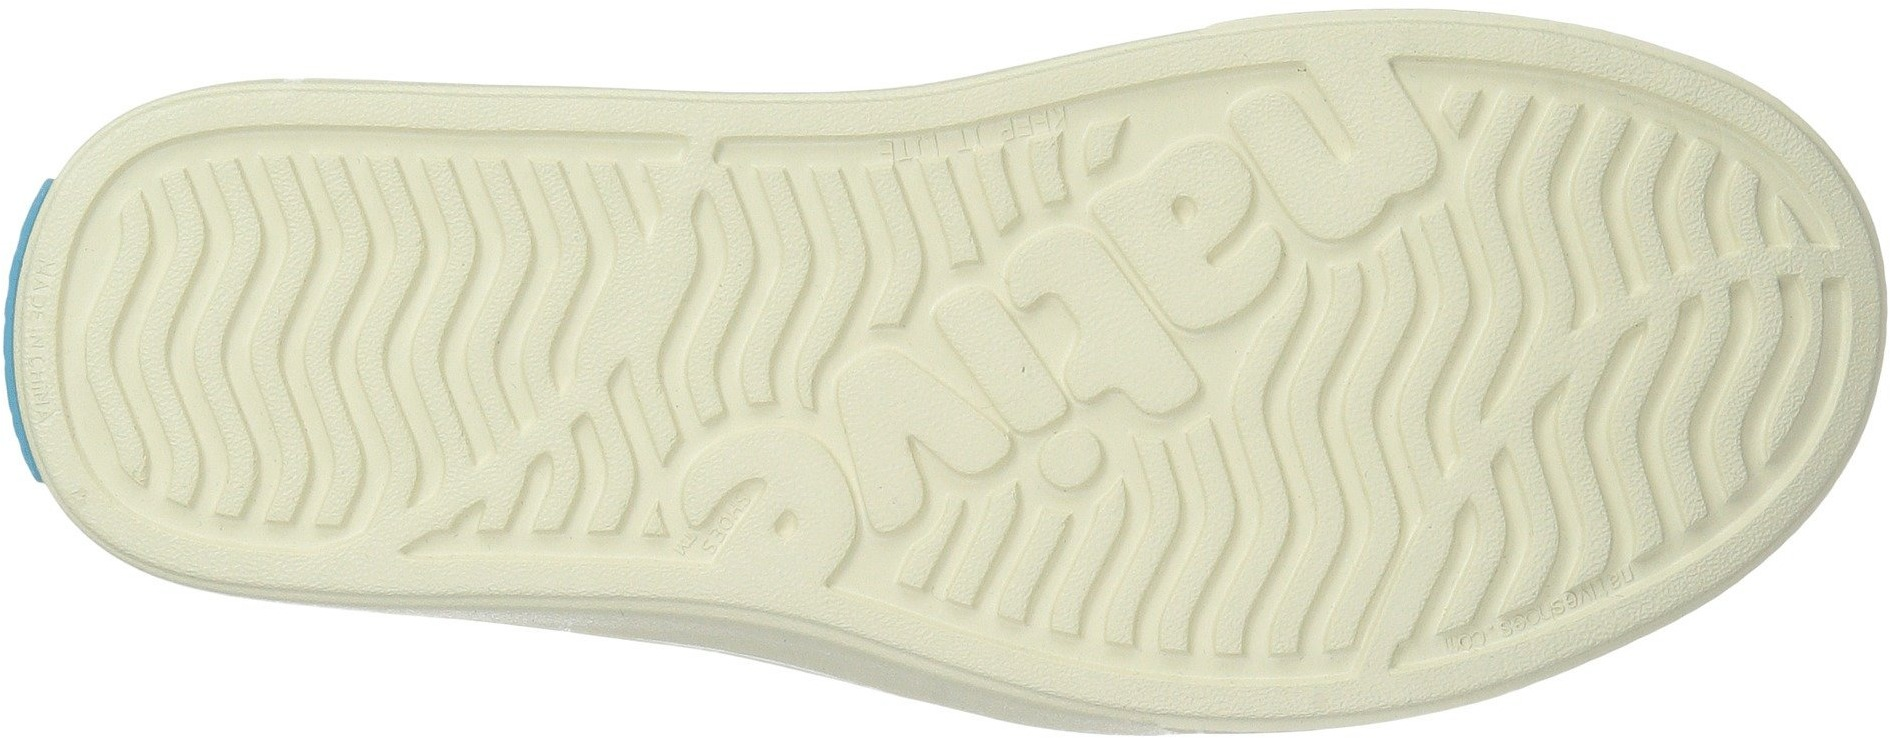chevron: (1407, 235, 1669, 535), (311, 170, 551, 411), (1161, 412, 1399, 642), (96, 200, 304, 440), (697, 166, 886, 345)
text: (916, 251, 1121, 453), (1138, 131, 1317, 293), (721, 402, 903, 558)
